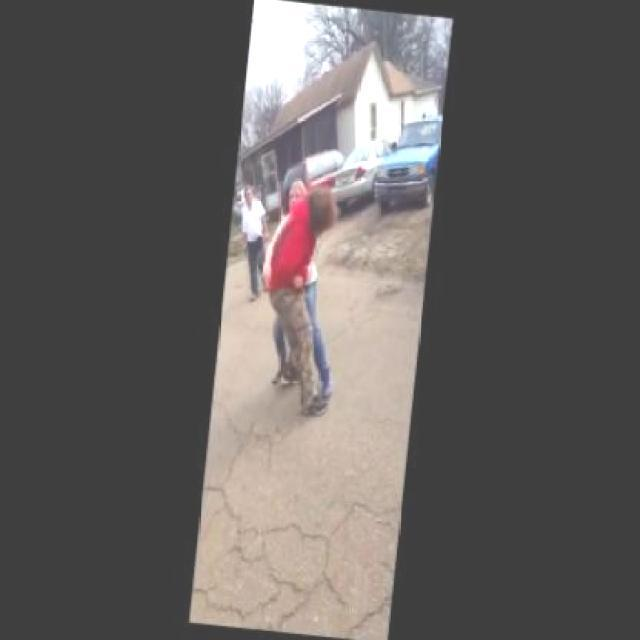fight: (258, 178, 337, 340)
non-fight: (231, 182, 271, 298)
